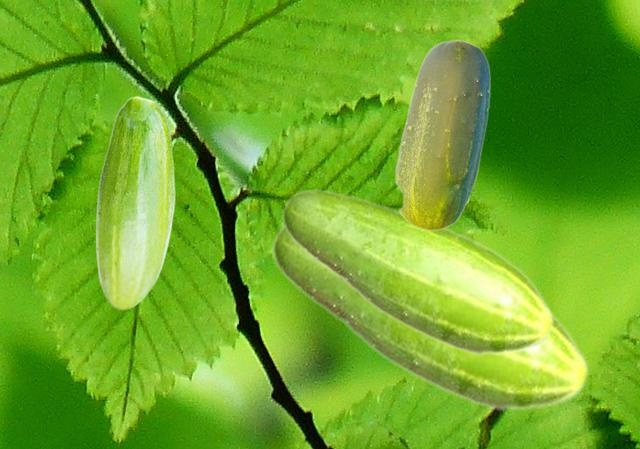cucumber: (271, 225, 589, 412), (281, 188, 554, 356), (394, 39, 489, 230), (95, 96, 174, 309)
